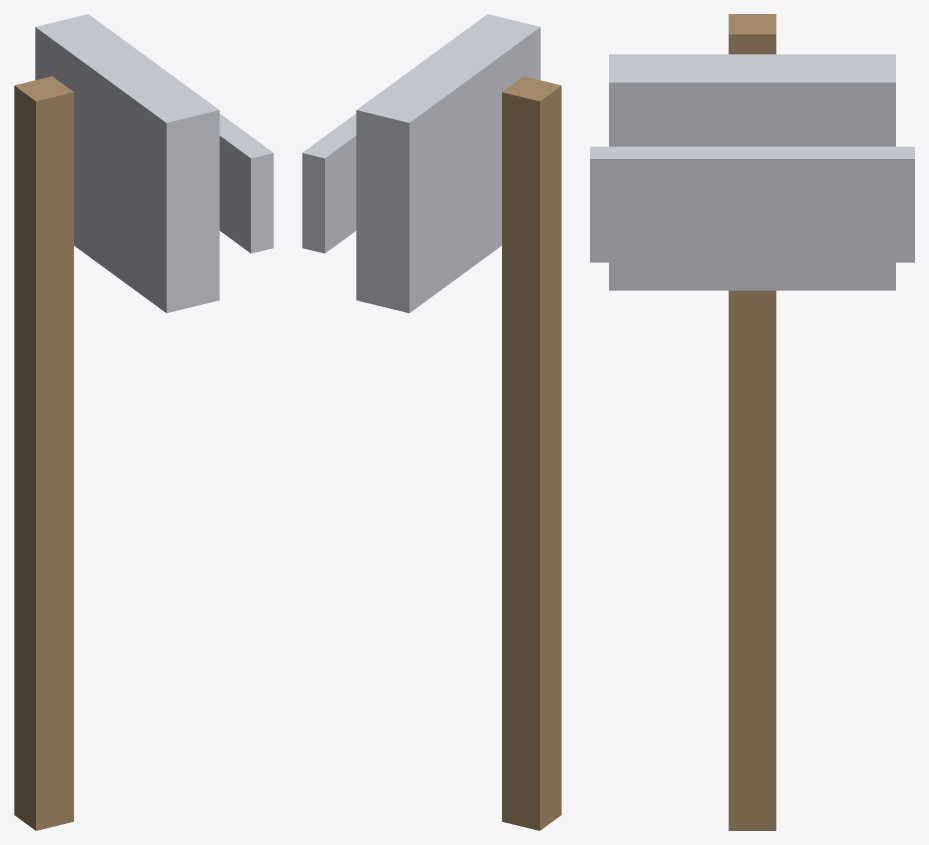
File: axe.glb
3 views of the same model, side by side, from view 1: azimuth 30°, elevation 25°; view 2: azimuth 150°, elevation 25°; view 3: azimuth 270°, elevation 25° (orthographic). The views are drawn at different scales.
Parts seen in each view (by area): view 1: axe; view 2: axe; view 3: axe.
Boxes of the visible parts, bbox=[...] form: axe: bbox=[14, 14, 273, 830]; axe: bbox=[302, 14, 561, 830]; axe: bbox=[590, 14, 914, 830].
Bounding box in the file's own units: 0.23 × 0.92 × 0.34.
